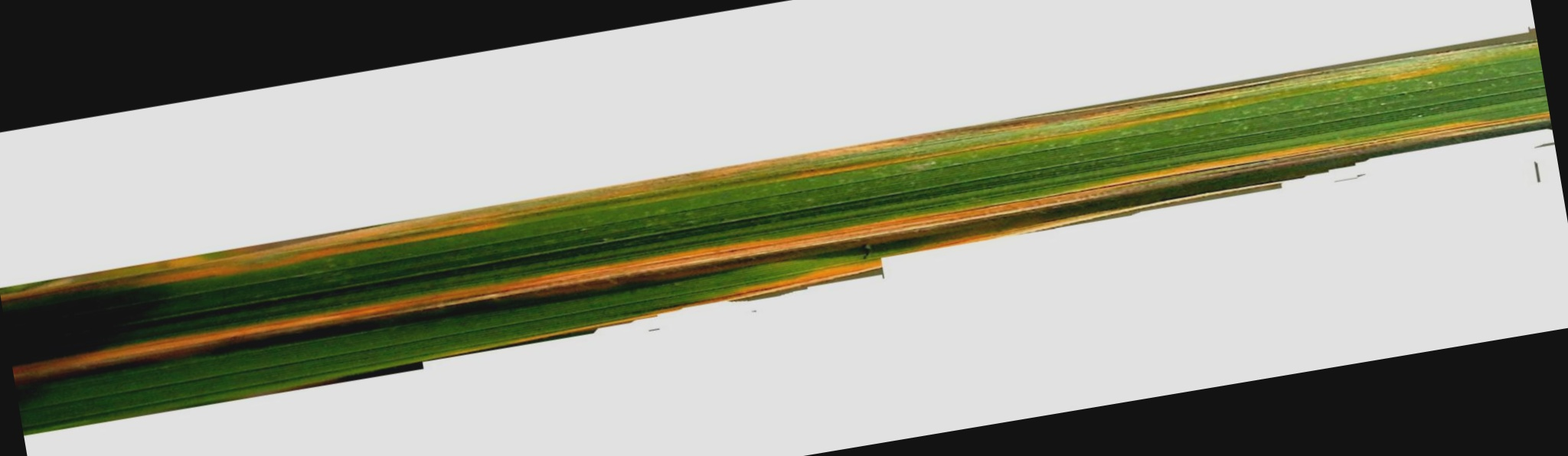Leaf_Blast: (2, 222, 1532, 293), (6, 136, 1519, 204)
